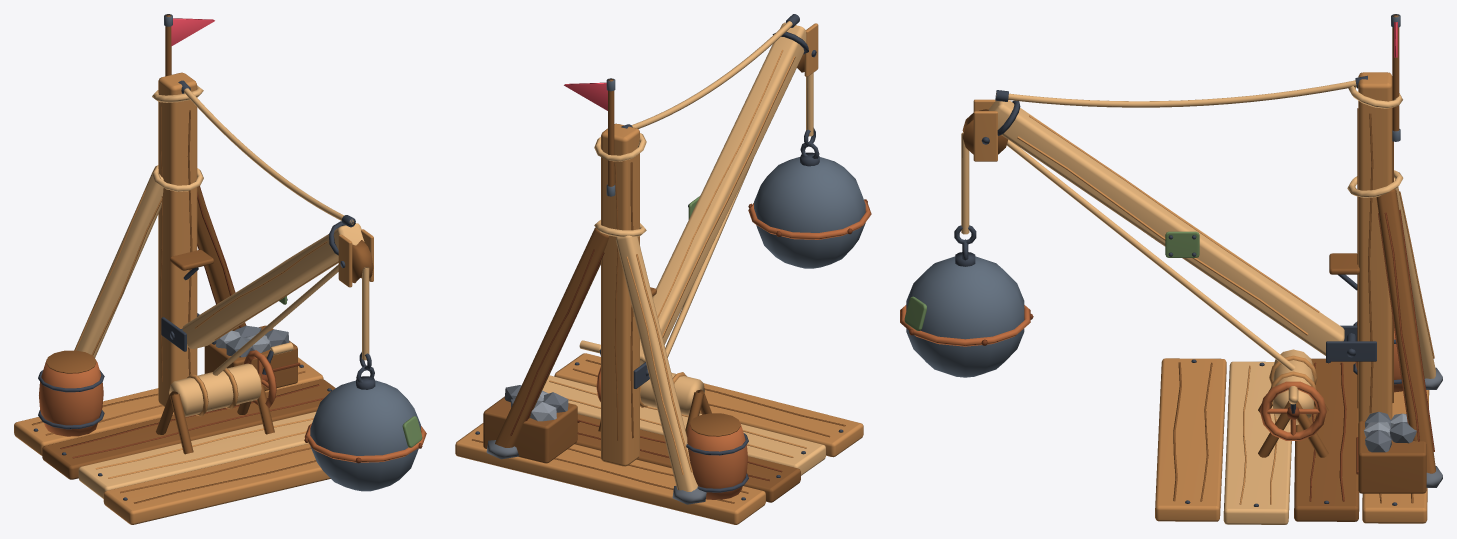
Rendered from WreckingCrane_T1.fbx.
The picture shows the model from 3 angles, left to right: view 1: azimuth 30°, elevation 25°; view 2: azimuth 150°, elevation 25°; view 3: azimuth 270°, elevation 25°; orthographic projection. The views are drawn at different scales.
Visible parts, largest first — view 1: WreckingCraneT1Deck, WreckingCraneT1Mast, WreckingCraneT1Ball, WreckingCraneT1Boom, WreckingCraneT1Junk, WreckingCraneT1Winch, WreckingCraneT1Ropes; view 2: WreckingCraneT1Mast, WreckingCraneT1Deck, WreckingCraneT1Boom, WreckingCraneT1Ball, WreckingCraneT1Junk, WreckingCraneT1Ropes, WreckingCraneT1Winch; view 3: WreckingCraneT1Deck, WreckingCraneT1Mast, WreckingCraneT1Boom, WreckingCraneT1Ball, WreckingCraneT1Junk, WreckingCraneT1Ropes, WreckingCraneT1Winch.
Boxes of the visible parts, x1=… form: WreckingCraneT1Deck: x1=14, y1=357, x2=335, y2=524; WreckingCraneT1Mast: x1=74, y1=14, x2=246, y2=407; WreckingCraneT1Ball: x1=304, y1=267, x2=426, y2=491; WreckingCraneT1Boom: x1=161, y1=221, x2=373, y2=351; WreckingCraneT1Junk: x1=38, y1=325, x2=300, y2=436; WreckingCraneT1Winch: x1=156, y1=342, x2=293, y2=454; WreckingCraneT1Ropes: x1=178, y1=80, x2=355, y2=375; WreckingCraneT1Mast: x1=486, y1=78, x2=706, y2=504; WreckingCraneT1Deck: x1=455, y1=353, x2=863, y2=524; WreckingCraneT1Boom: x1=633, y1=22, x2=818, y2=388; WreckingCraneT1Ball: x1=748, y1=73, x2=871, y2=268; WreckingCraneT1Junk: x1=483, y1=385, x2=748, y2=499; WreckingCraneT1Ropes: x1=621, y1=14, x2=799, y2=357; WreckingCraneT1Winch: x1=579, y1=340, x2=711, y2=432; WreckingCraneT1Deck: x1=1155, y1=358, x2=1429, y2=524; WreckingCraneT1Mast: x1=1329, y1=14, x2=1442, y2=487; WreckingCraneT1Boom: x1=962, y1=99, x2=1376, y2=361; WreckingCraneT1Ball: x1=900, y1=132, x2=1033, y2=377; WreckingCraneT1Junk: x1=1353, y1=321, x2=1426, y2=493; WreckingCraneT1Ropes: x1=995, y1=75, x2=1367, y2=370; WreckingCraneT1Winch: x1=1258, y1=349, x2=1328, y2=457.
Bounding box in the file's own units: 133 × 175 × 199.
